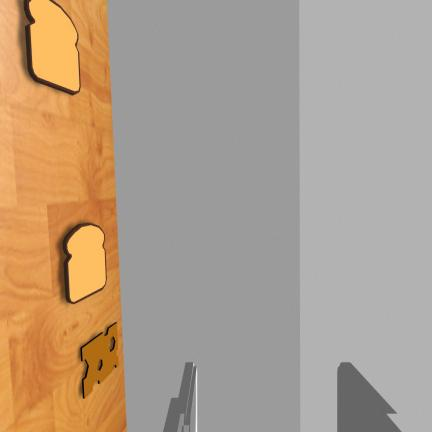cheese: (81, 323, 118, 398)
sliced_bread: (25, 0, 80, 94), (63, 224, 106, 302)
